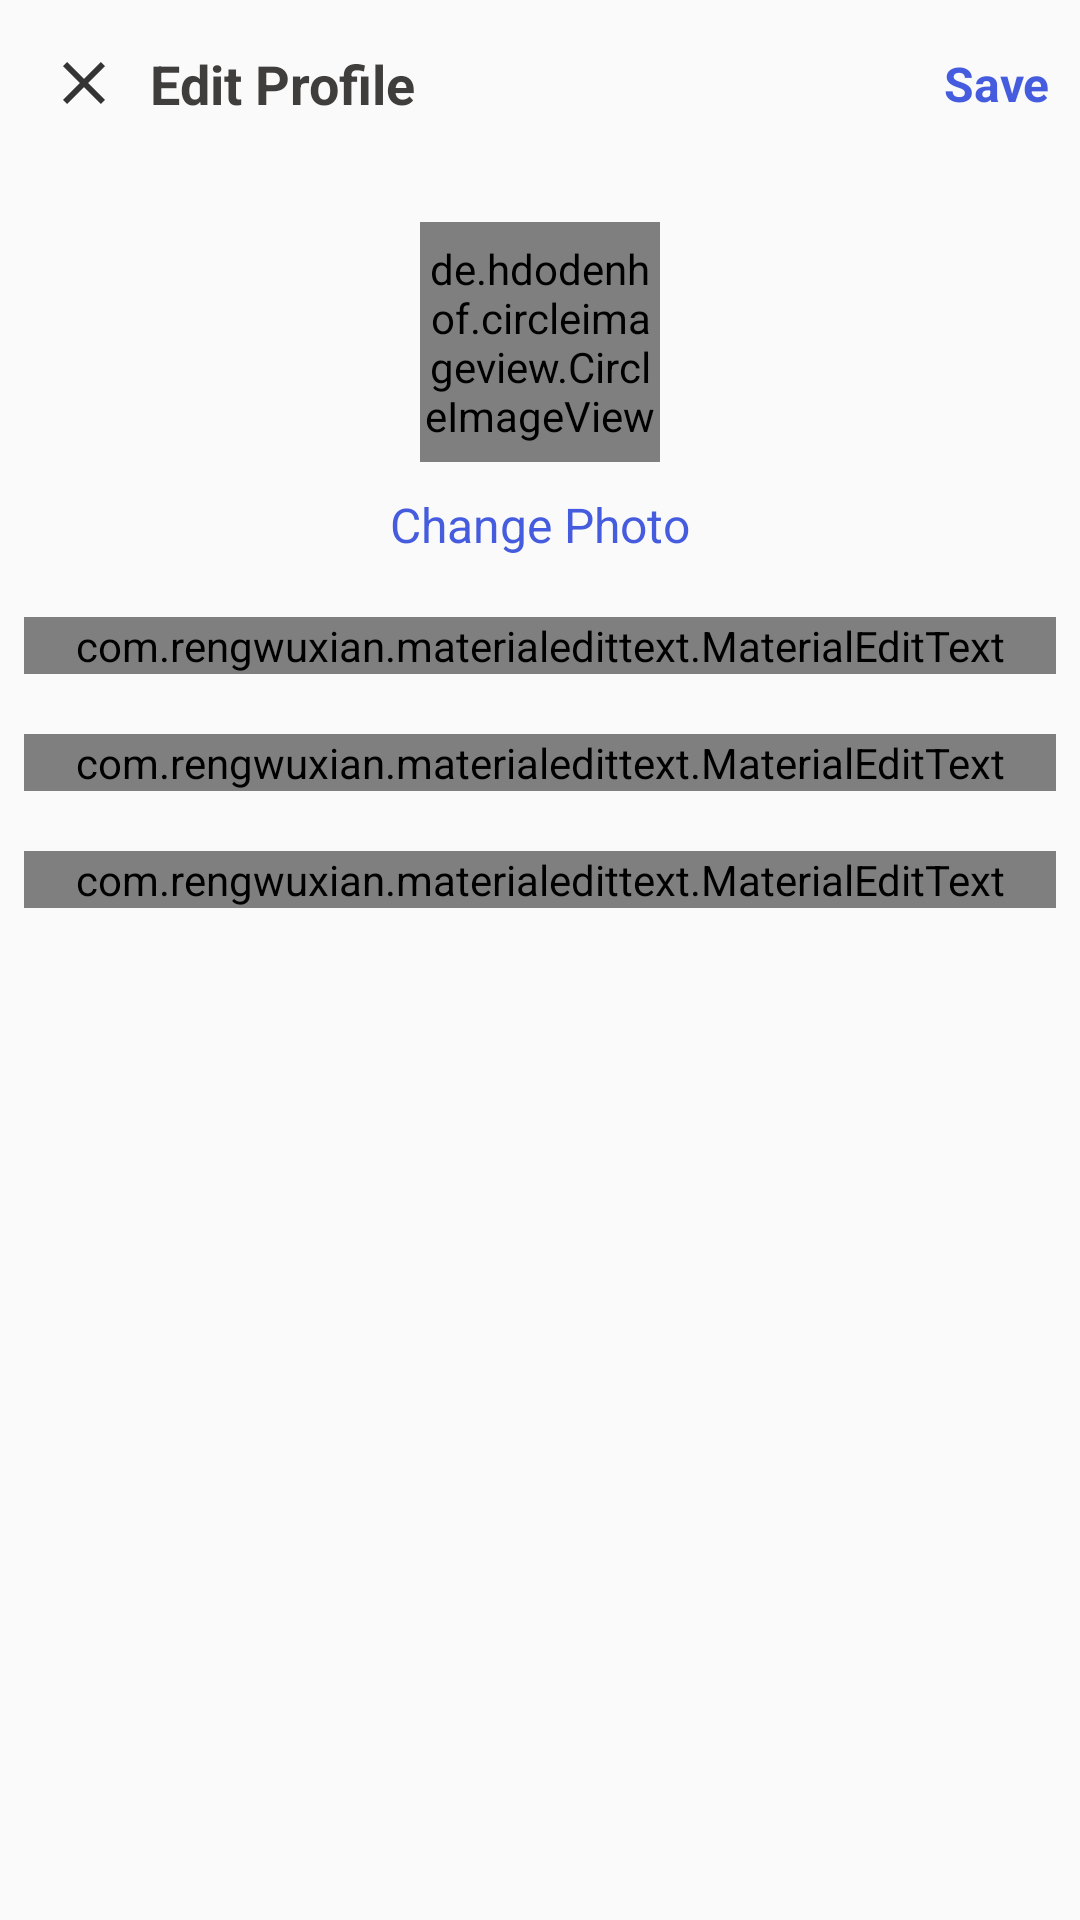

Named icons in this screenshot (1080px x 1920px) and their bounding boxes, (x1, y1, x2, y2):
close: (63, 62, 105, 104)
